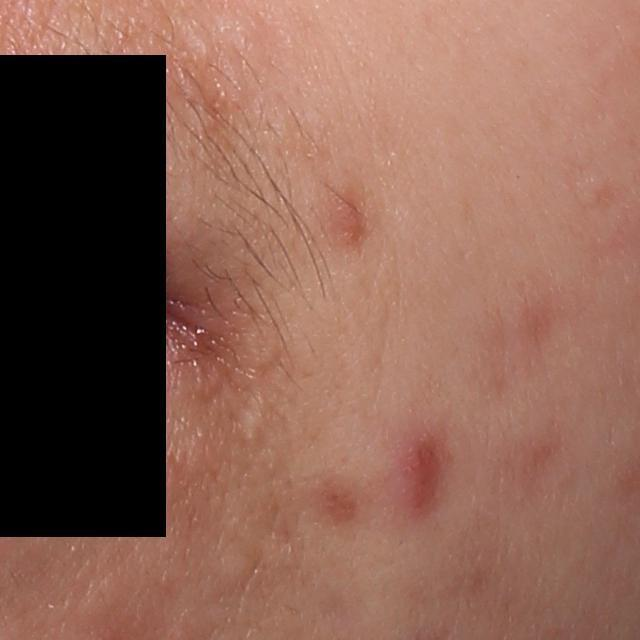hypertrophic_scar: (210, 544, 259, 592), (238, 402, 270, 443)
papule: (395, 433, 448, 511), (328, 185, 368, 243)
